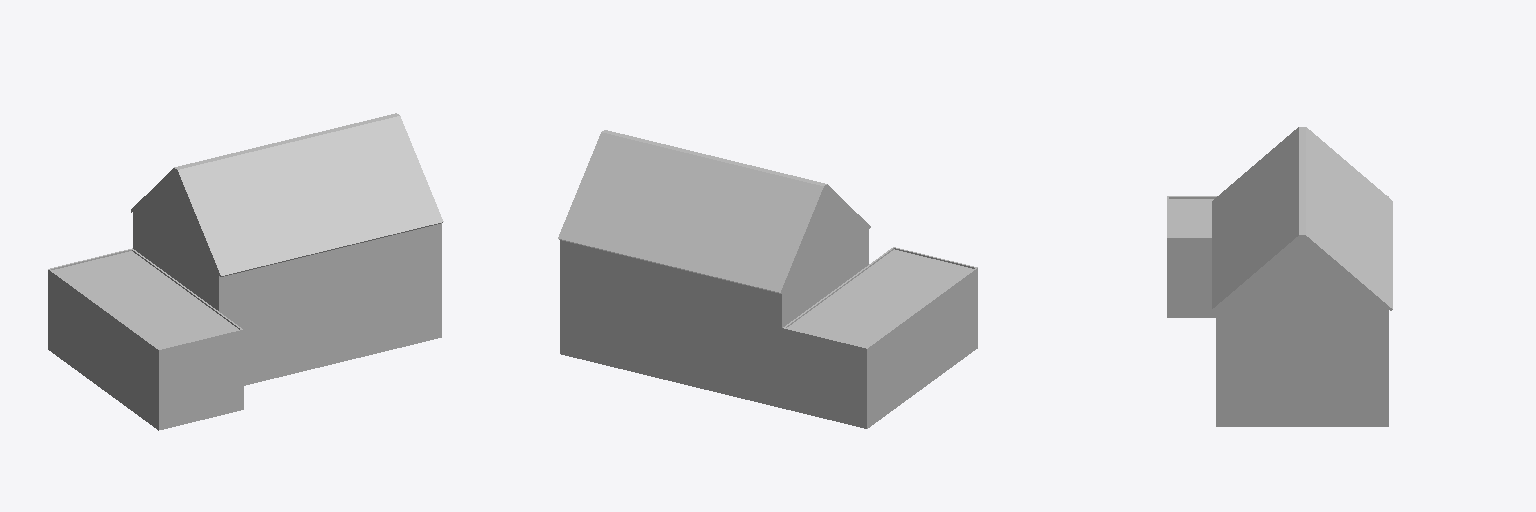
File: House 2.obj
3 views of the same model, side by side, from view 1: azimuth 30°, elevation 25°; view 2: azimuth 150°, elevation 25°; view 3: azimuth 270°, elevation 25° (orthographic).
Visible parts, largest first — view 1: House_36; view 2: House_36; view 3: House_36.
Part boxes in pixels (bbox=[...]): House_36: bbox=[48, 113, 443, 430]; House_36: bbox=[558, 130, 977, 428]; House_36: bbox=[1167, 127, 1392, 426].
Bounding box in the file's own units: 821 × 489 × 523.